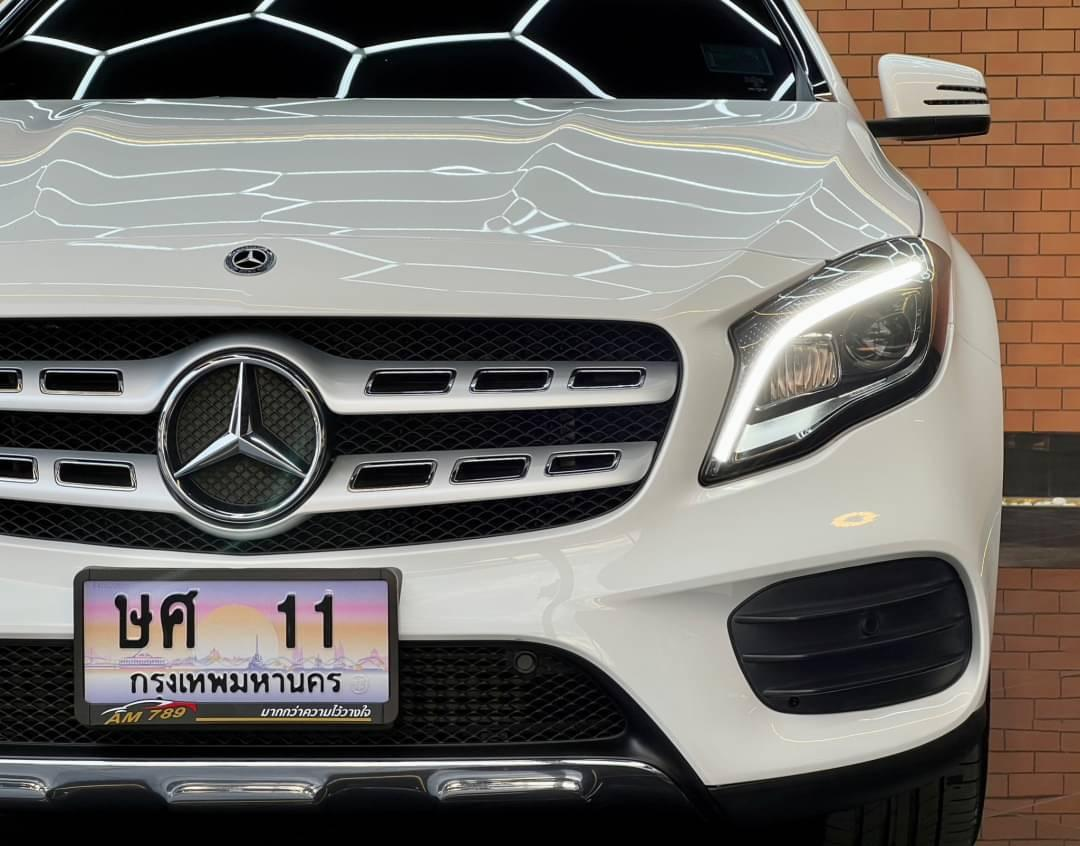license-plate: (72, 561, 412, 732)
